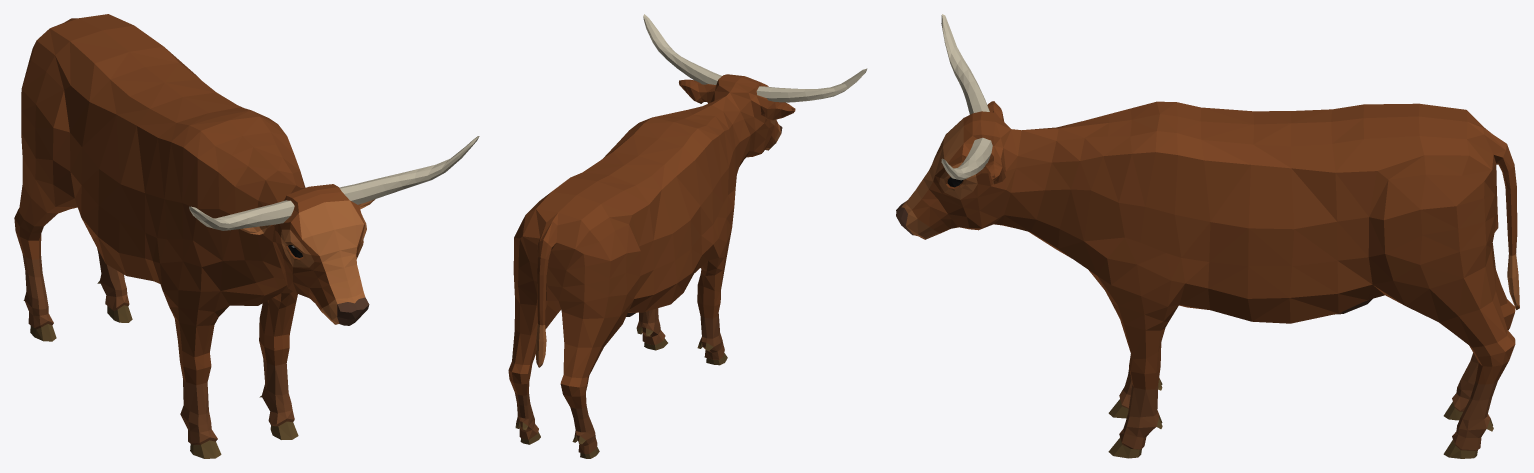
File: highland.glb
3 renders of one model, left to right at view 1: azimuth 30°, elevation 25°; view 2: azimuth 150°, elevation 25°; view 3: azimuth 270°, elevation 25°, orthographic. The views are drawn at different scales.
Parts seen in each view (by area): view 1: zoo-highland; view 2: zoo-highland; view 3: zoo-highland.
Part boxes in pixels (bbox=[...]): zoo-highland: bbox=[14, 14, 479, 458]; zoo-highland: bbox=[508, 14, 867, 458]; zoo-highland: bbox=[896, 14, 1519, 458].
Bounding box in the file's own units: 1.16 × 1.3 × 2.11.
